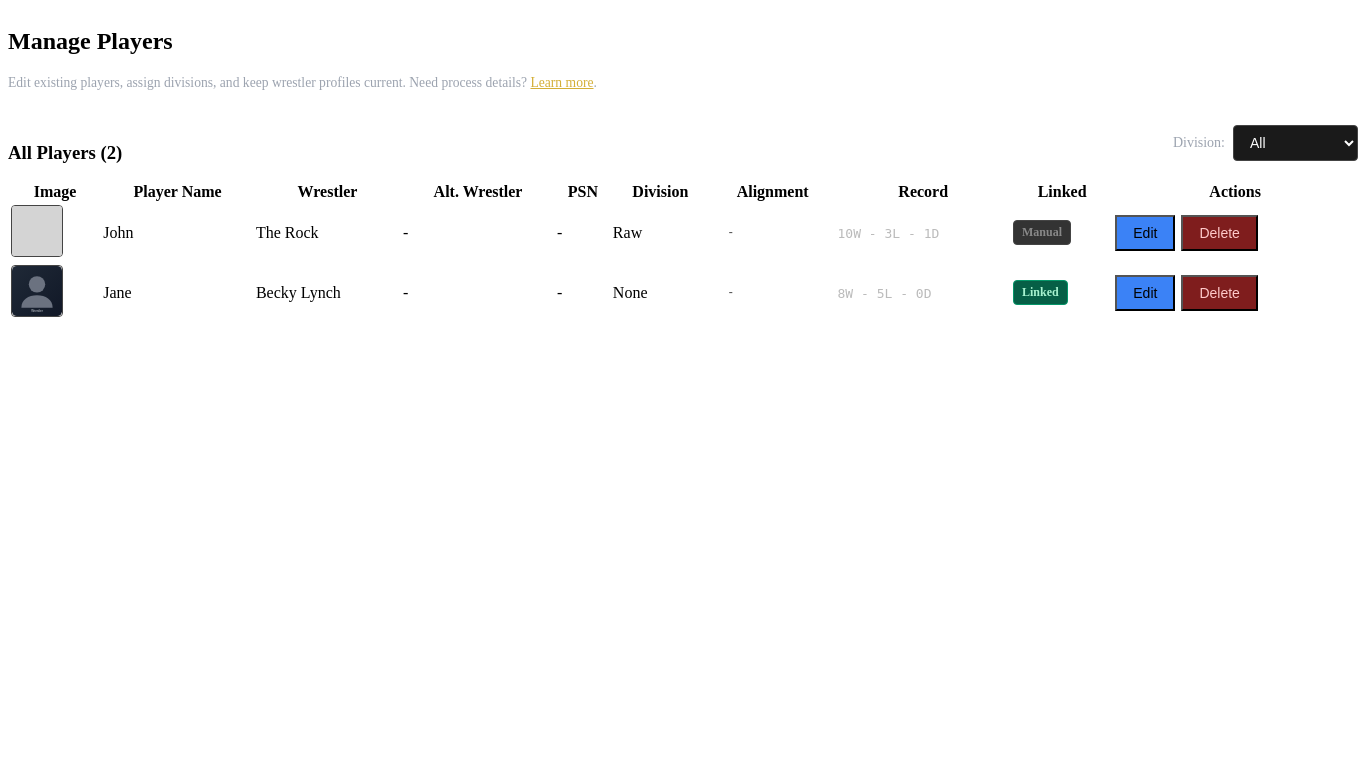
Test case: ManagePlayers › opens edit form pre-populated with player data, dropdown shows current wrestler
Expected: the text "John" is shown, 102,204 -> 253,262
What coordinates should you click on to do the following:
click the button "Edit" in the row of "John"
I would click on:
 (1145, 232)
Its box is 1115,214 -> 1175,250.
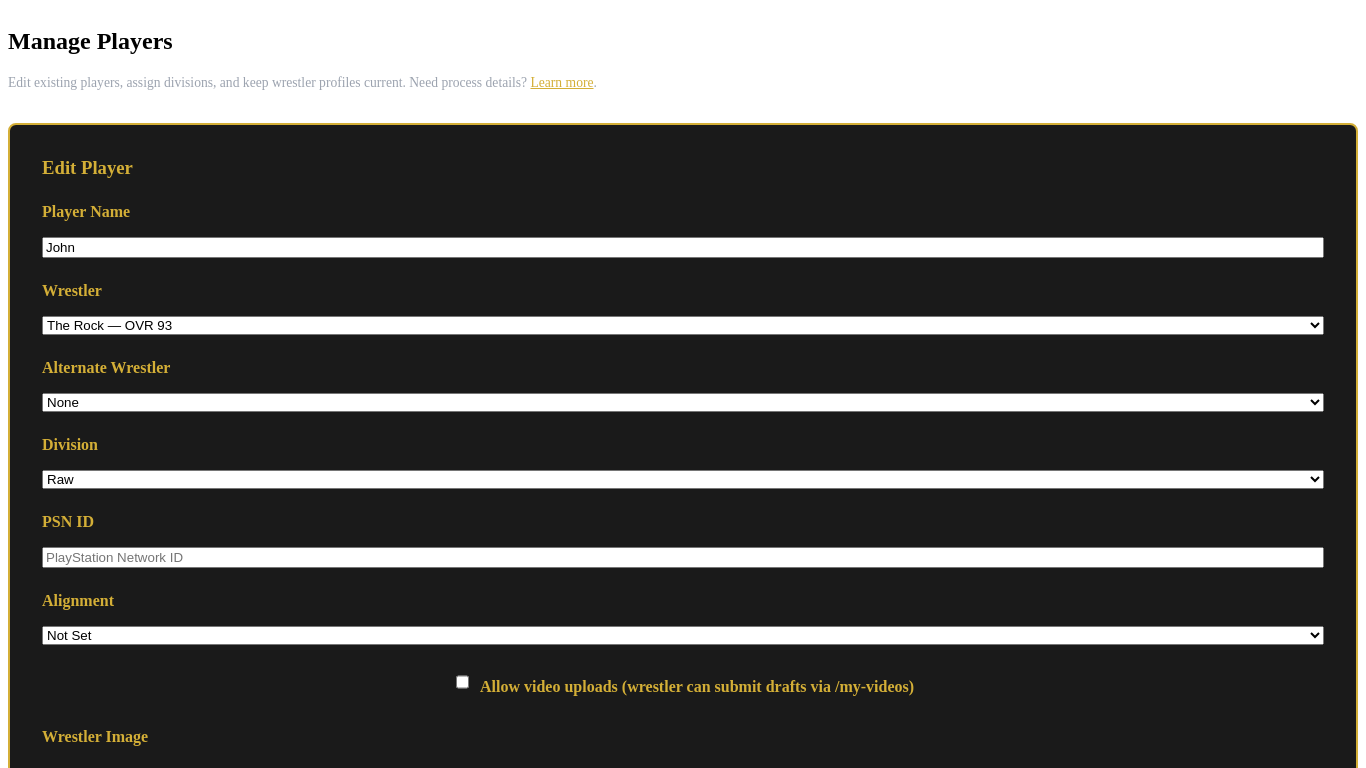
Expected: the heading "Edit Player" is shown, 42,157 -> 133,178
Expected: the field showing "John" is shown, 42,237 -> 1324,258
Expected: the dropdown labelled "Wrestler" shows "The Rock — OVR 93", 42,316 -> 1324,335
